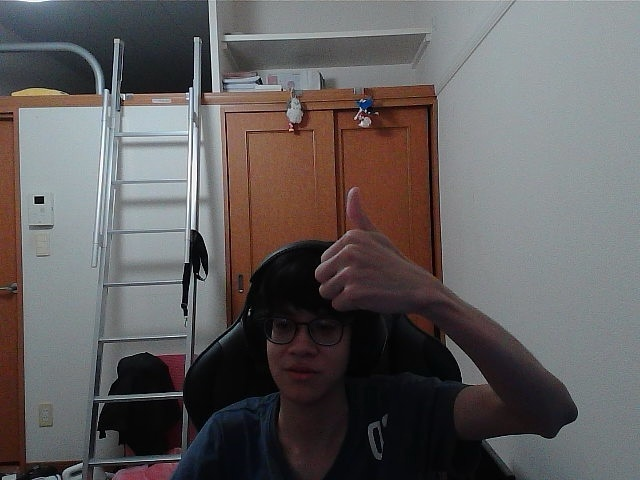thumb_up: (321, 197, 412, 305)
